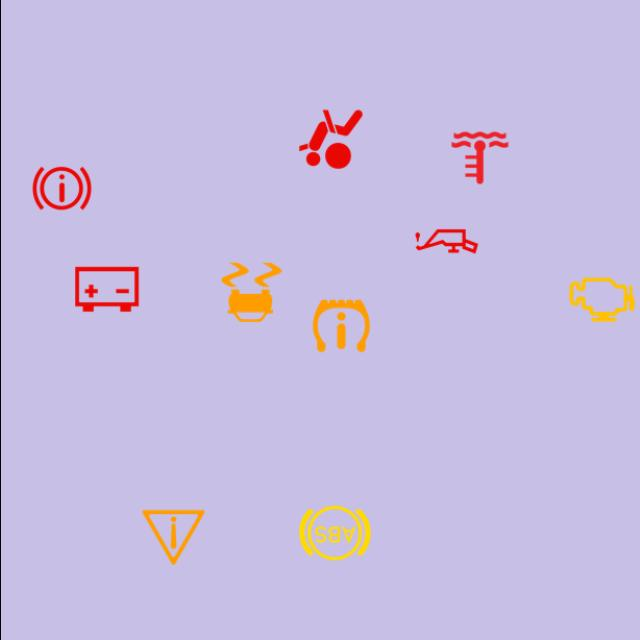Anti Lock Braking System: (295, 494, 373, 572)
Braking System Issue: (22, 149, 100, 227)
Charging System Issue: (67, 250, 145, 328)
Check Engine: (562, 260, 640, 338)
Electronic Stability Problem -ESP-: (212, 254, 290, 332)
Engine Overheating Warning Light: (440, 119, 518, 197)
Low Engine Oil Warning Light: (406, 202, 484, 280)
Low Tire Pressure Warning Light: (302, 286, 379, 364)
Master warning light: (134, 498, 212, 576)
SRS-Airbag: (291, 100, 369, 178)
